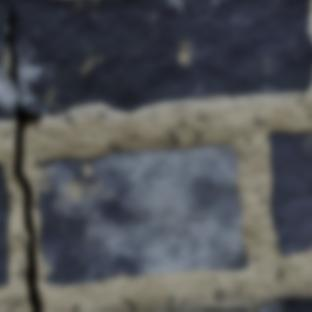brick: (36, 145, 247, 284), (269, 132, 311, 254), (0, 164, 9, 285), (149, 310, 164, 311)
broken_brick: (0, 0, 311, 116), (256, 297, 311, 311), (0, 77, 15, 121), (173, 308, 236, 311)
crack: (0, 2, 45, 311), (229, 305, 257, 311)
